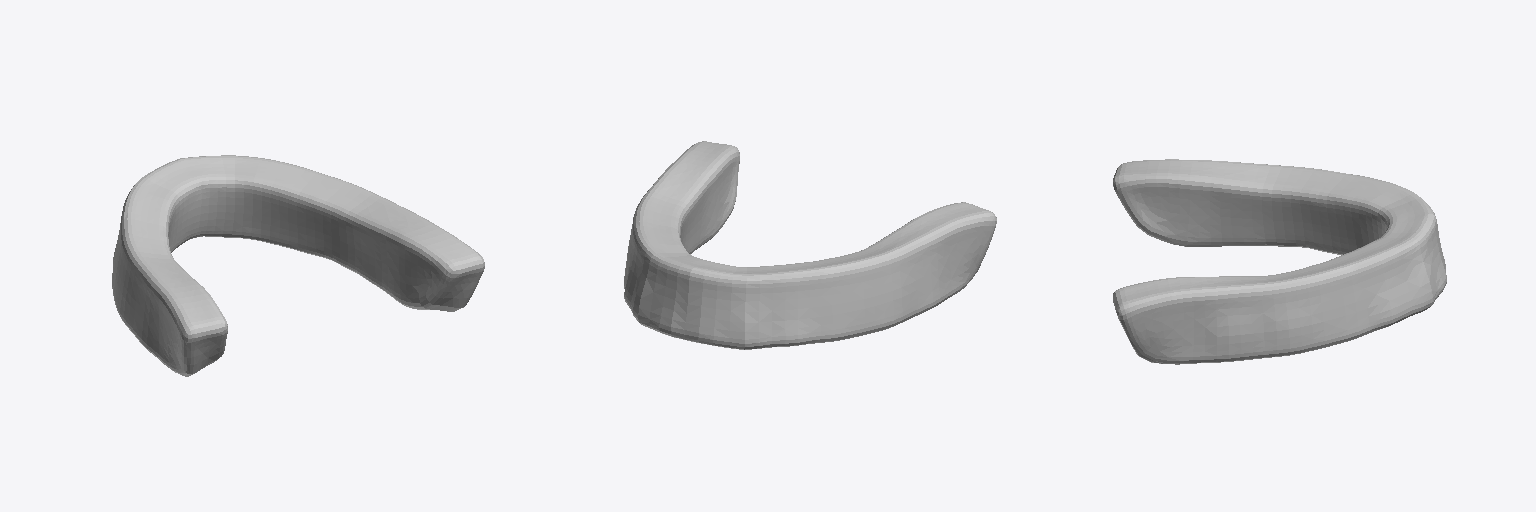
The model's file is upper_bone.obj.
3 views of the same model, side by side, from view 1: azimuth 30°, elevation 25°; view 2: azimuth 150°, elevation 25°; view 3: azimuth 270°, elevation 25° (orthographic).
Parts seen in each view (by area): view 1: upper_bone1; view 2: upper_bone1; view 3: upper_bone1.
Part boxes in pixels (bbox=[...]): upper_bone1: bbox=[112, 155, 484, 376]; upper_bone1: bbox=[624, 141, 996, 349]; upper_bone1: bbox=[1113, 159, 1446, 364].
Size of the model in its own units: 0.1243 by 0.0337 by 0.1196.